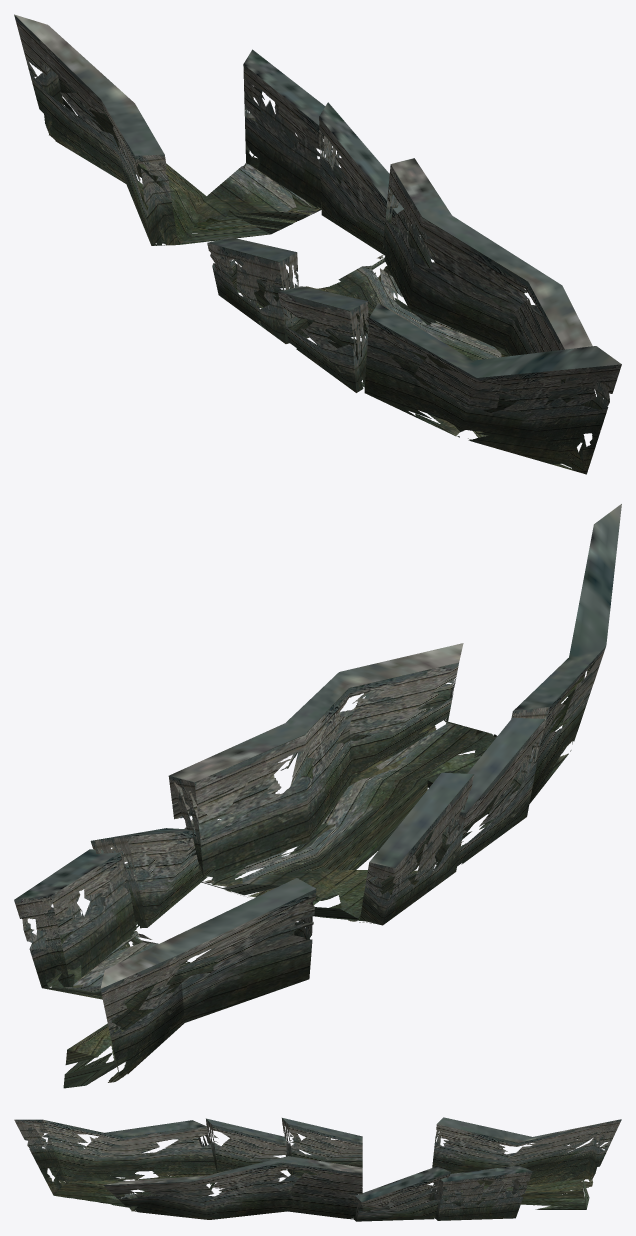
The model's file is skiff03x.glb.
The picture shows the model from 3 angles, top to bottom: view 1: azimuth 30°, elevation 25°; view 2: azimuth 150°, elevation 25°; view 3: azimuth 270°, elevation 25°; orthographic projection. The views are drawn at different scales.
Visible parts, largest first — view 1: _skiff03x; view 2: _skiff03x; view 3: _skiff03x.
Part boxes in pixels (x1,y1,x2,y2): _skiff03x: [14, 14, 621, 474]; _skiff03x: [14, 504, 621, 1088]; _skiff03x: [14, 1117, 621, 1221].
Bounding box in the file's own units: 3.04 × 2.23 × 13.59.
Materials: 1 (1 with a texture image).
